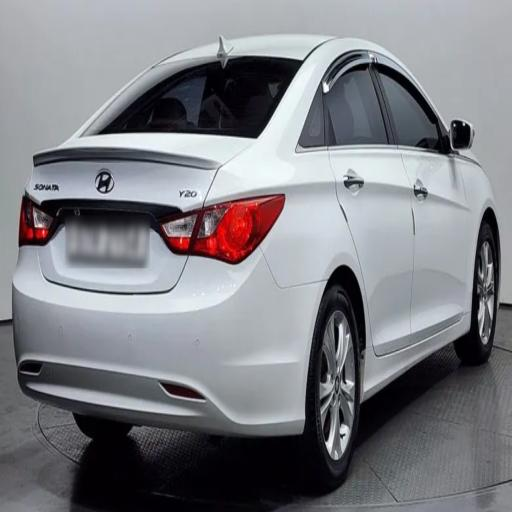normal: (7, 14, 508, 493)
